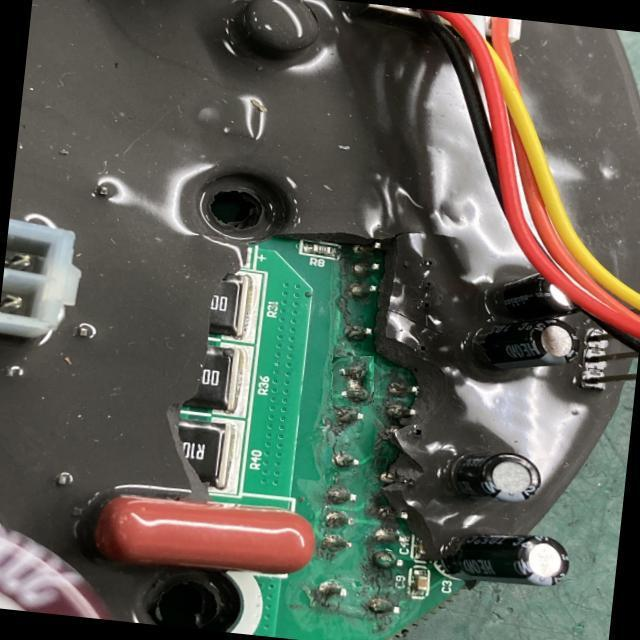damged: (332, 356, 374, 406)
